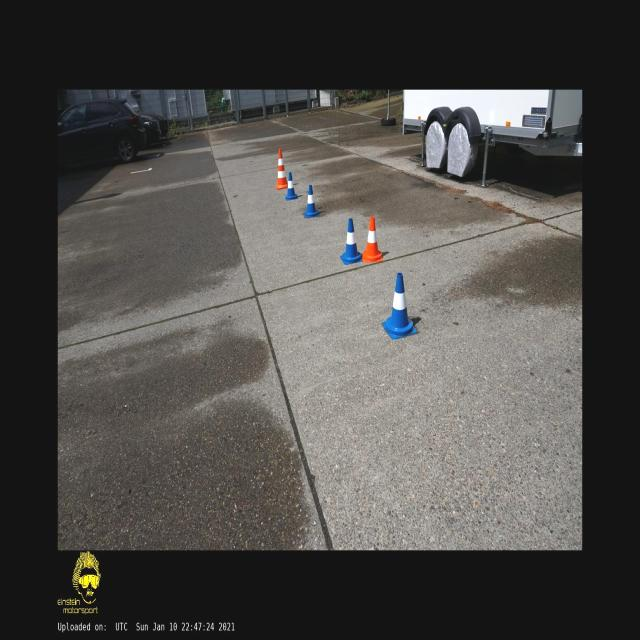blue_cone: (382, 273, 417, 339), (340, 218, 362, 264), (304, 185, 318, 217), (286, 172, 298, 200)
large_orange_cone: (276, 148, 288, 188)
orange_cone: (362, 216, 382, 262)
